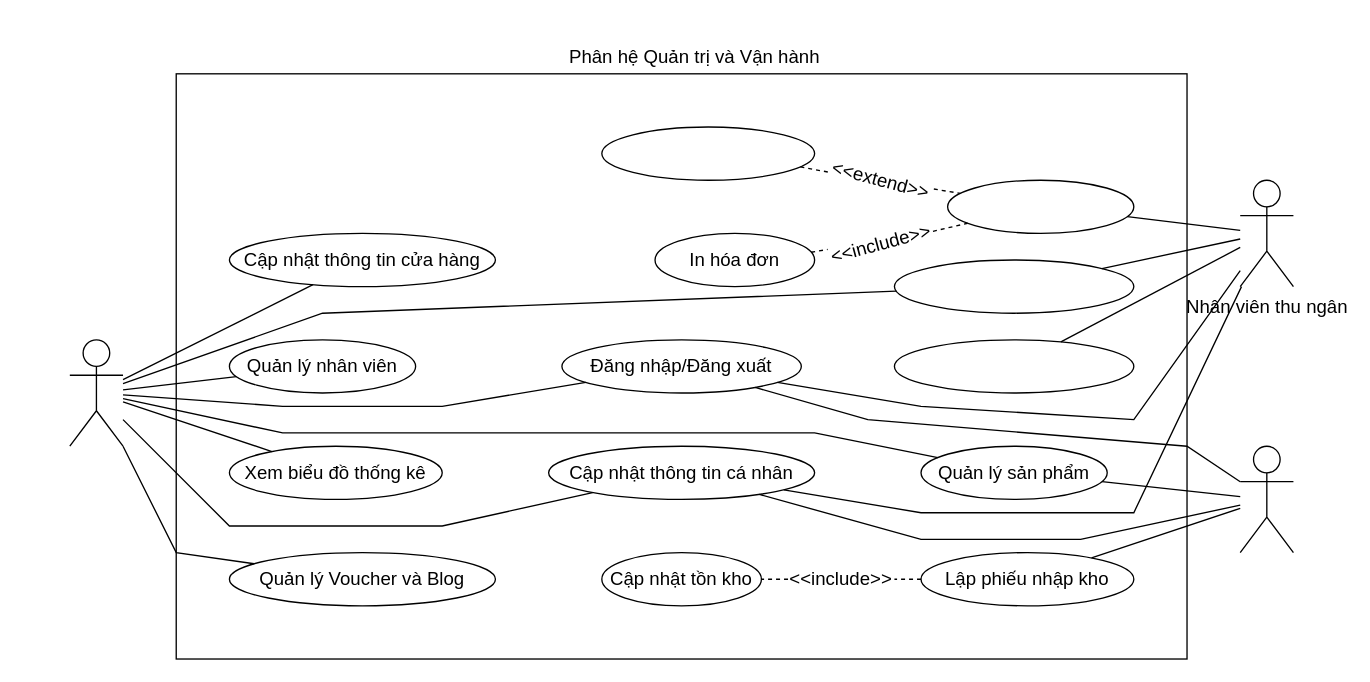
This 1370x682 diagram has some shape labels left out. The centre of each missing label's shape, as x and y in pixels:
"Bán hàng tại quầy" goes at (x=1040, y=206).
"Nhân viên kho" goes at (x=1266, y=499).
"Quản lý cửa hàng" goes at (x=95, y=392).
"Xem thông tin giao dịch" goes at (x=1013, y=365).
"Xử lý đơn hàng Online" goes at (x=1013, y=286).
"Áp dụng mã giảm giá" goes at (x=707, y=153).
